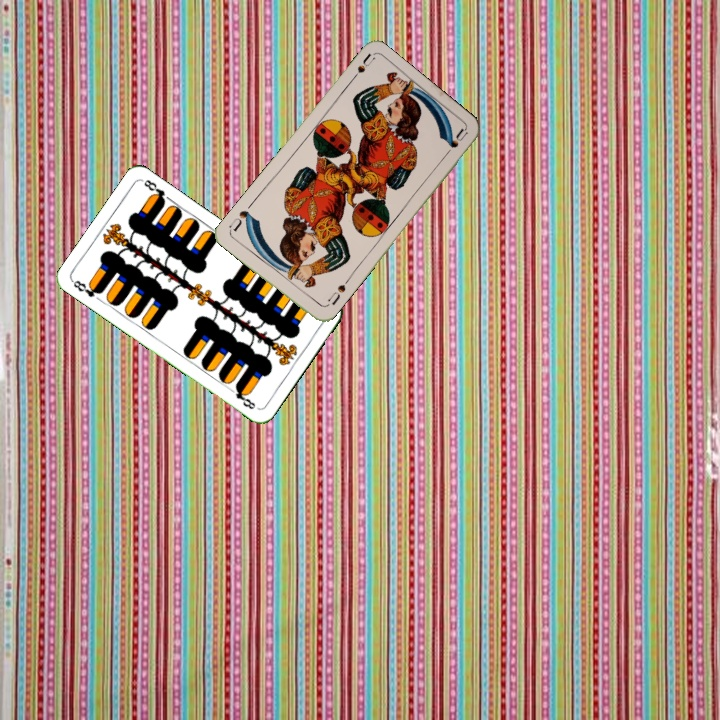E8: (69, 276, 105, 300)
SU: (345, 50, 376, 86), (324, 276, 351, 308)
